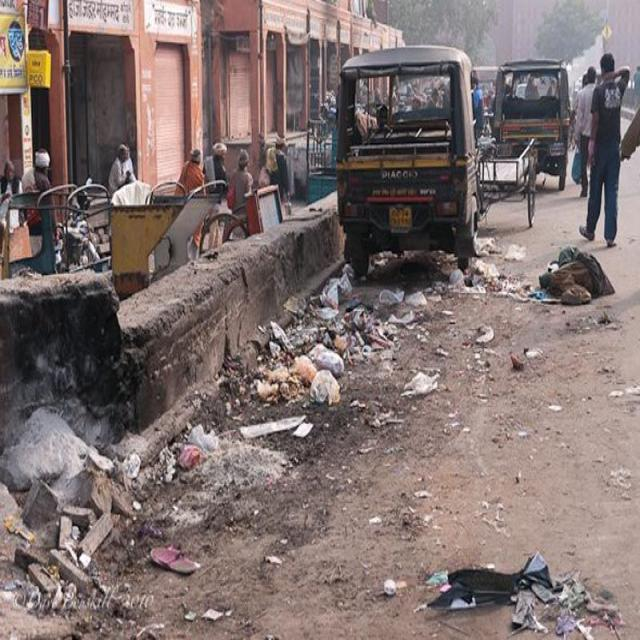garbage: (0, 221, 640, 640)
